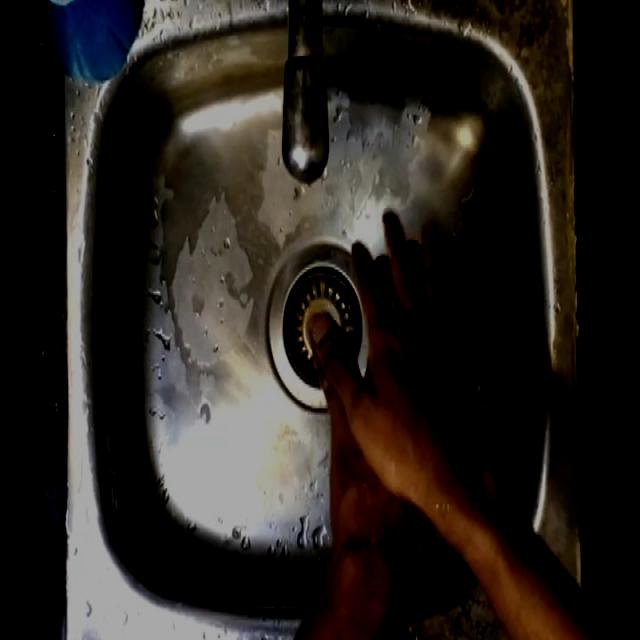step_2: (308, 190, 514, 552)
